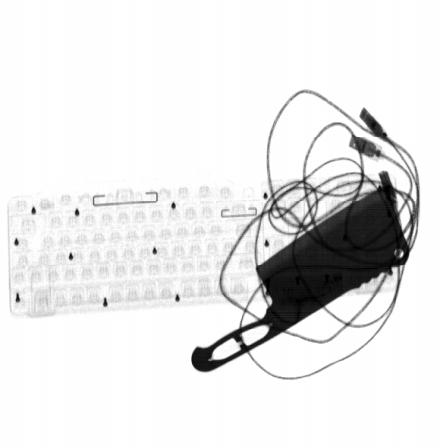Knife: (191, 183, 411, 373)
